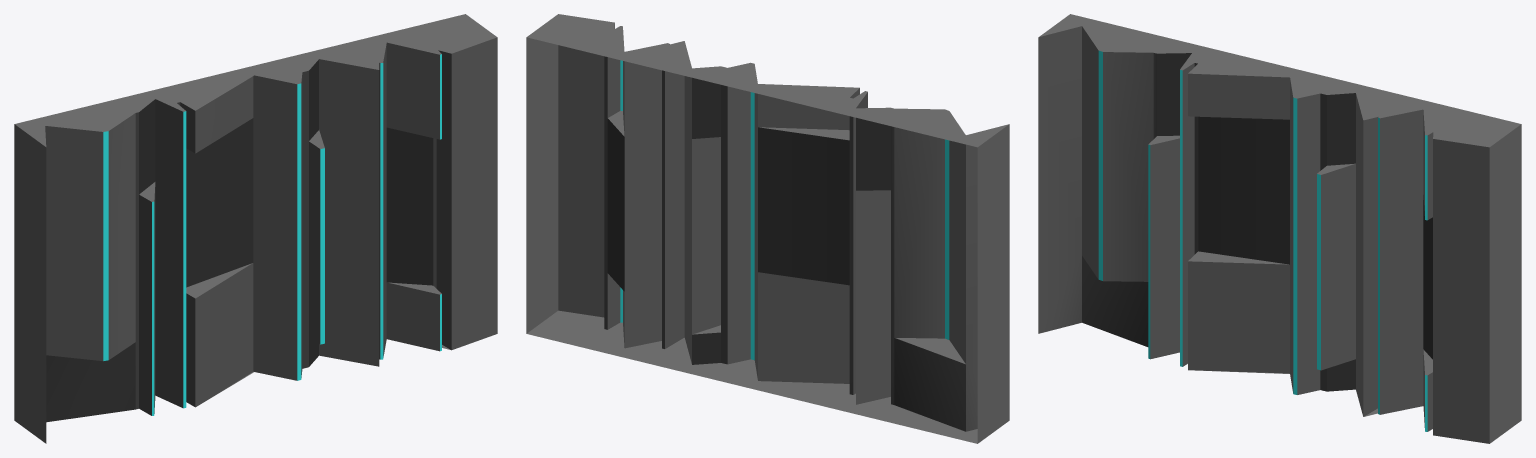
The model's file is Wall_8x5x1_001_L0_Geometry.fbx.
The picture shows the model from 3 angles, left to right: view 1: azimuth 30°, elevation 25°; view 2: azimuth 150°, elevation 25°; view 3: azimuth 330°, elevation 25°; orthographic projection.
Visible parts, largest first — view 1: Wall_8x5x1_001_L0_Geometry; view 2: Wall_8x5x1_001_L0_Geometry; view 3: Wall_8x5x1_001_L0_Geometry.
Boxes of the visible parts, x1,y1,x2,y2 form: Wall_8x5x1_001_L0_Geometry: (14, 14, 497, 443); Wall_8x5x1_001_L0_Geometry: (526, 14, 1009, 443); Wall_8x5x1_001_L0_Geometry: (1038, 14, 1521, 443).
Bounding box in the file's own units: 7.96 × 5 × 1.14.
